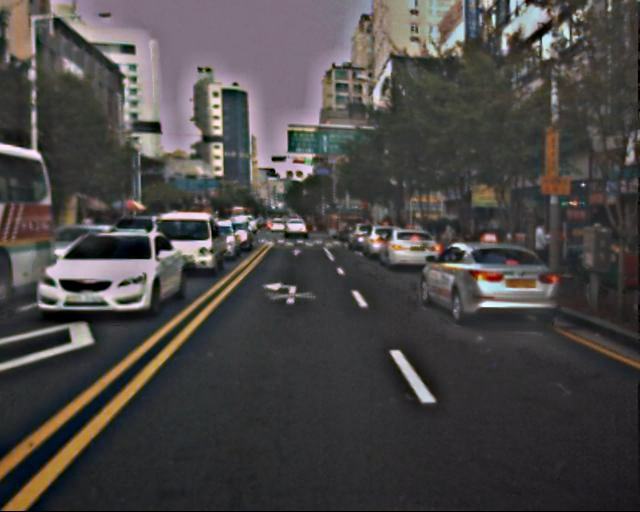person: (526, 216, 553, 281)
